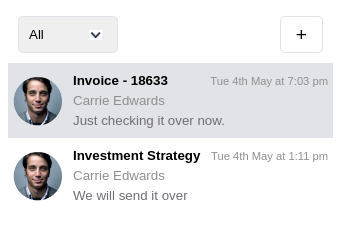
Test: App › Changes the visible chats when the filter dropdown is used
This screenshot has width=350, height=230.
Expected: the number of buttons with test id "chat-button" is 2, [8,63,333,138]; [8,138,333,213]
Select "Archived" in the dropdown with test id "chat-filter" at (68, 34), box [18,16,118,53]
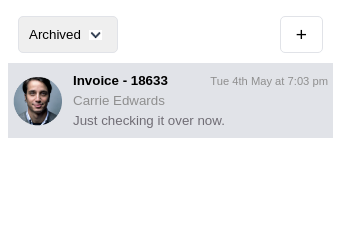
Now the number of buttons with test id "chat-button" is 1, box [8,63,333,138]
